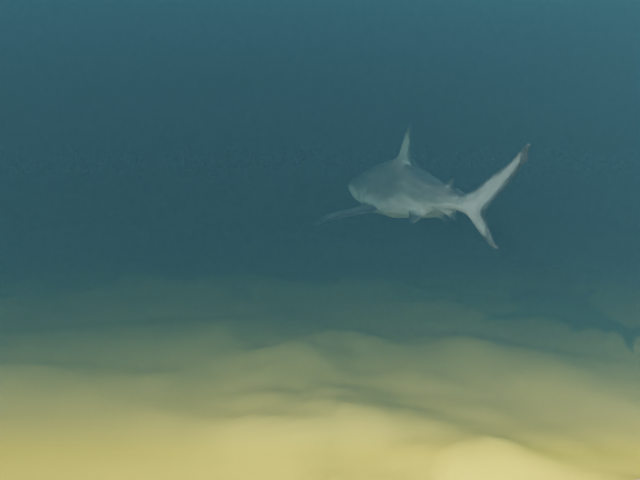Carribean Shark.001: (313, 126, 530, 249)
